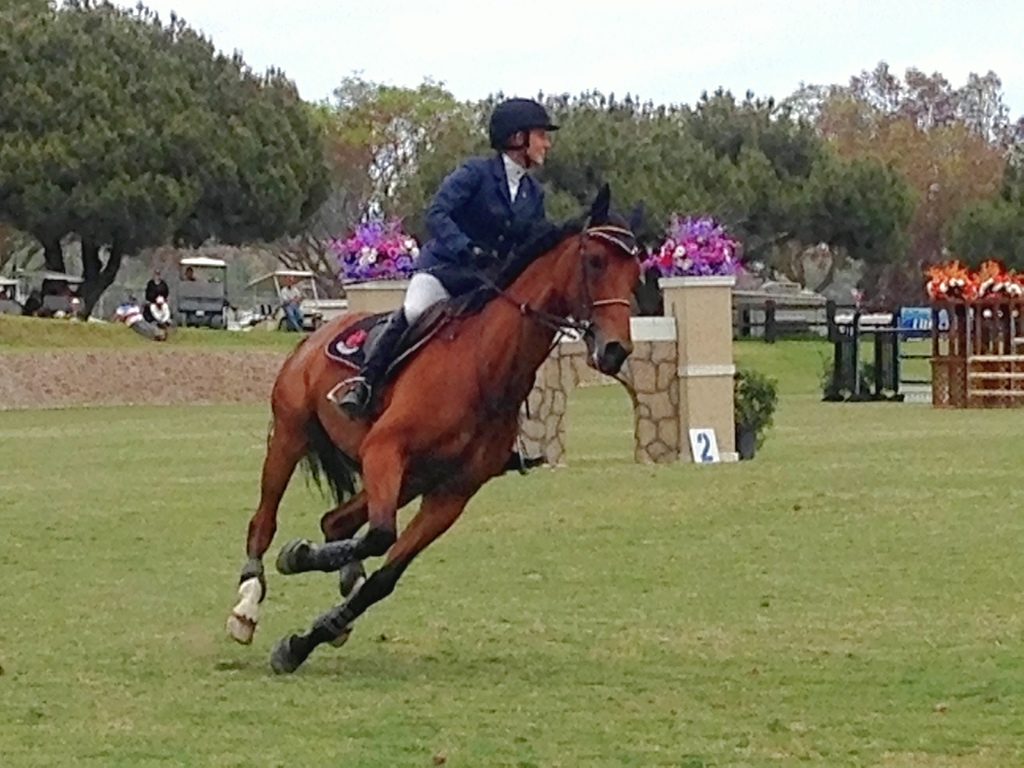horse: (223, 182, 643, 677)
